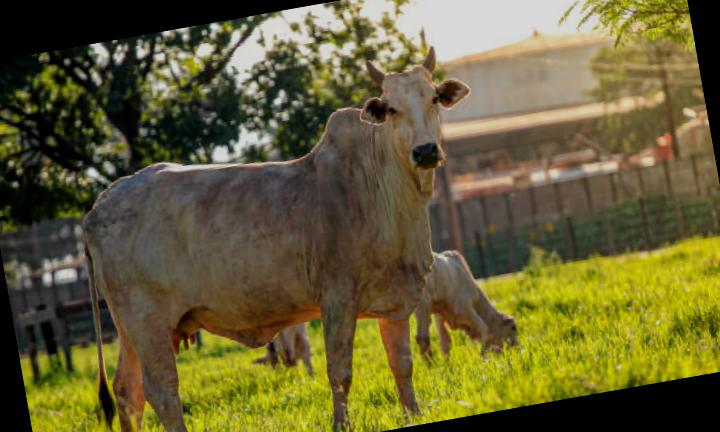Brahman: (84, 49, 470, 432)
